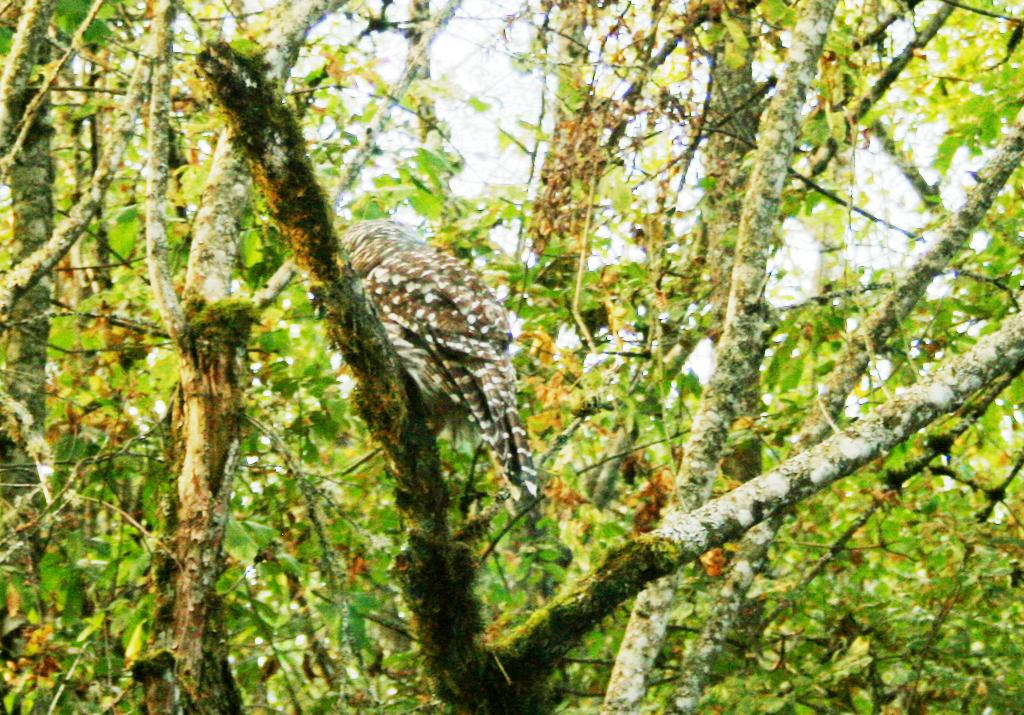Owl: (338, 220, 552, 509)
